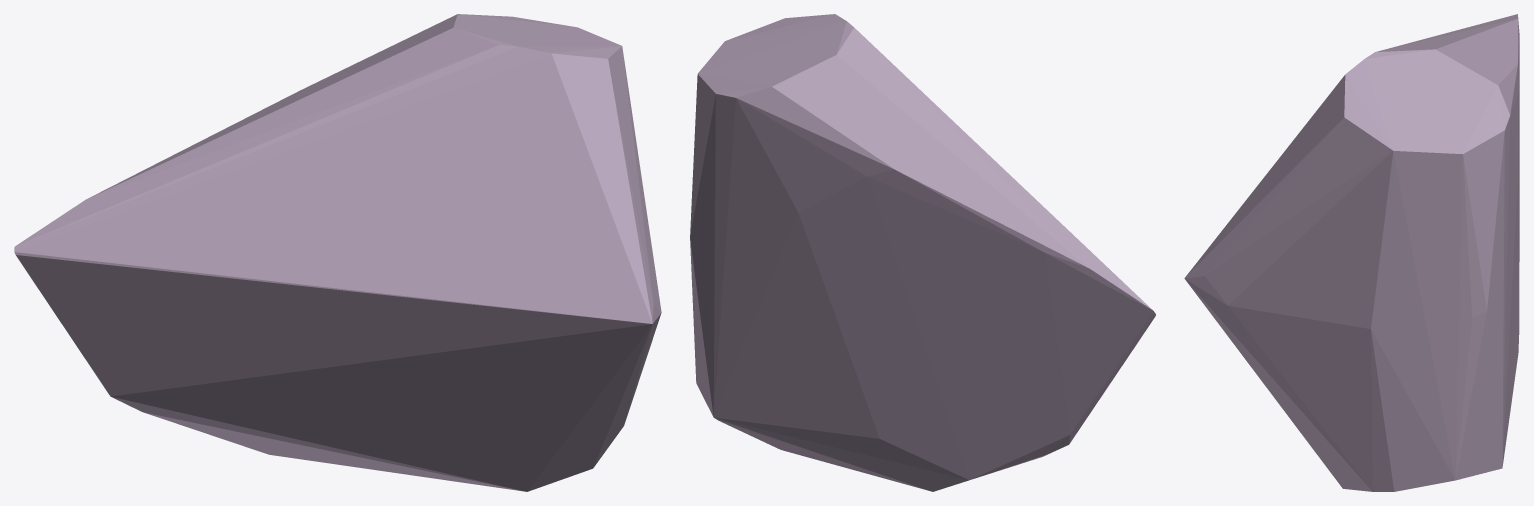
File: ppe_respirator_halfMask_a01.glb
3 renders of one model, left to right at view 1: azimuth 30°, elevation 25°; view 2: azimuth 150°, elevation 25°; view 3: azimuth 270°, elevation 25°, orthographic. The views are drawn at different scales.
Parts seen in each view (by area): view 1: geometry_0; view 2: geometry_0; view 3: geometry_0.
Boxes of the visible parts, x1,y1,x2,y2 form: geometry_0: (14,14,661,491); geometry_0: (690,14,1155,491); geometry_0: (1184,14,1519,491).
Bounding box in the file's own units: 0.4761 × 0.3712 × 0.2724.
